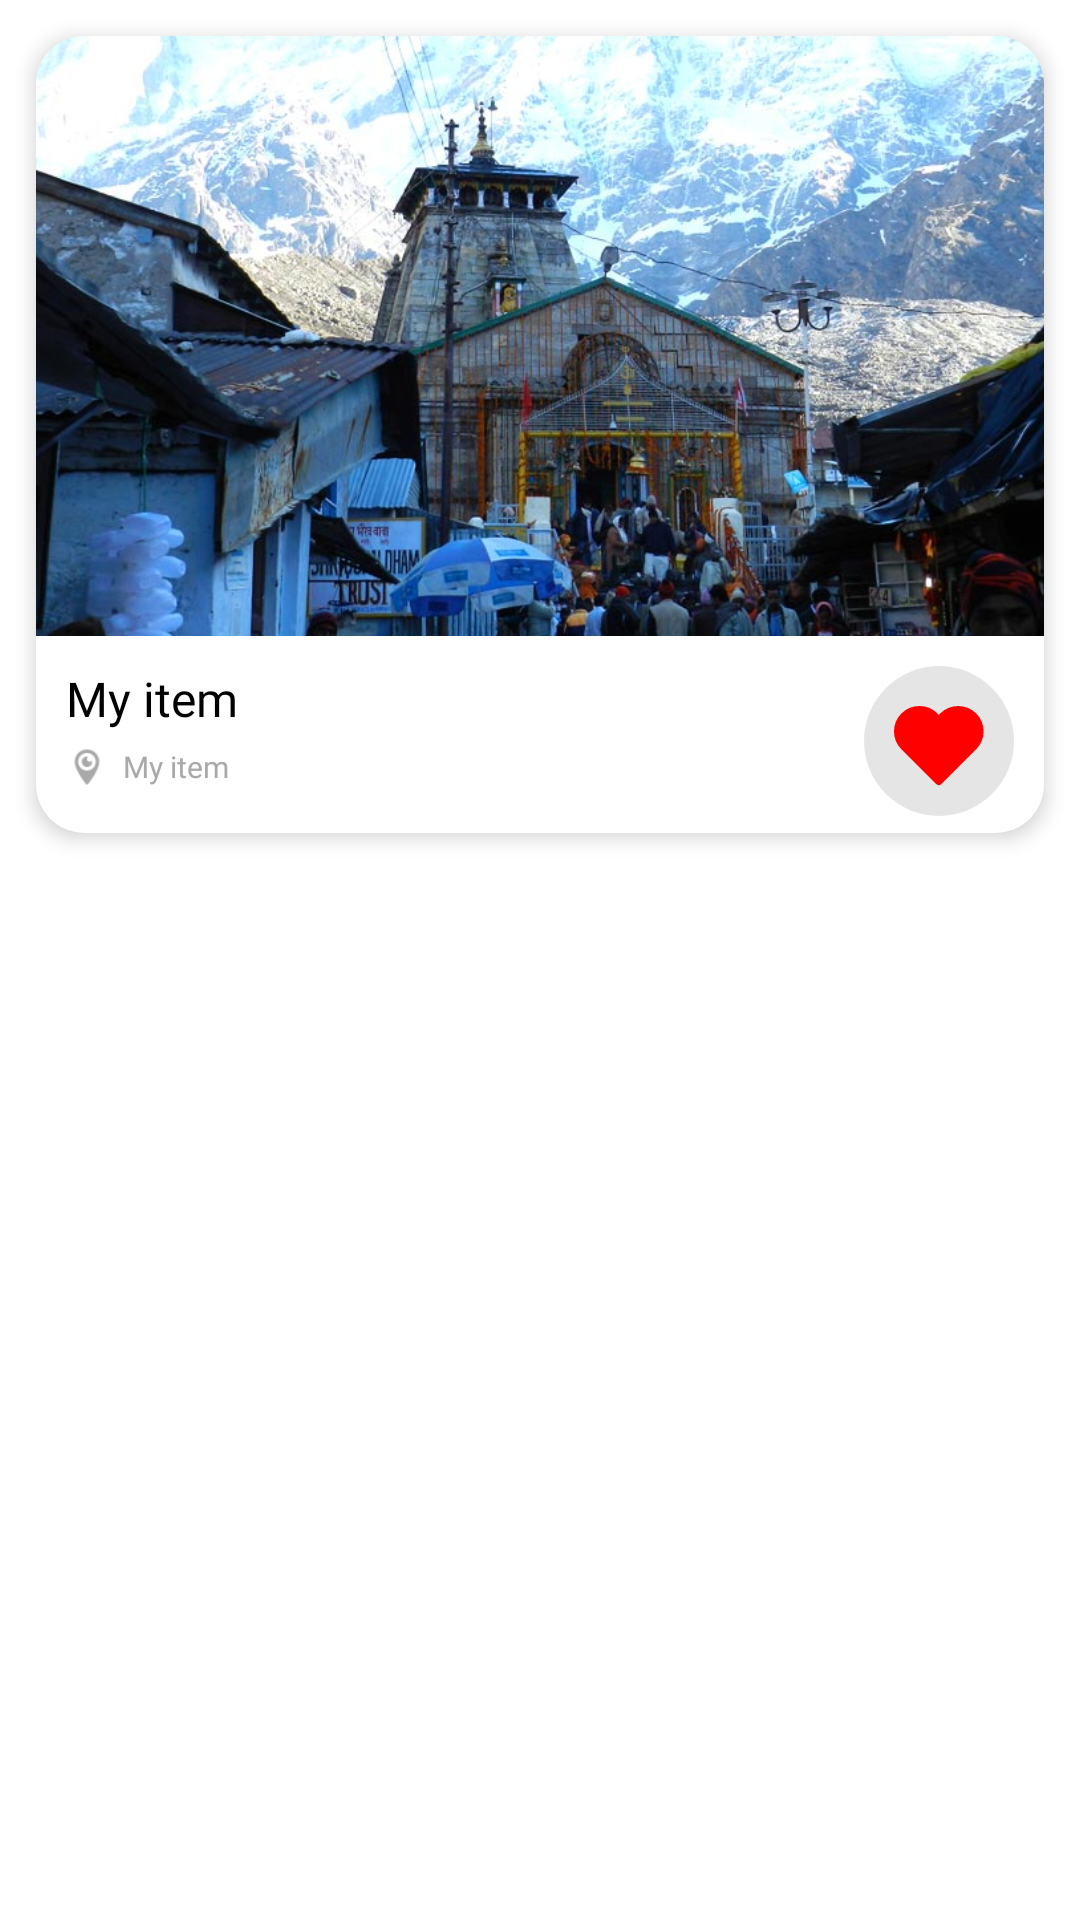

Named icons in this screenshot (1080×1920) and their centers, (x=x, y=y):
smol location: (x=87, y=767)
